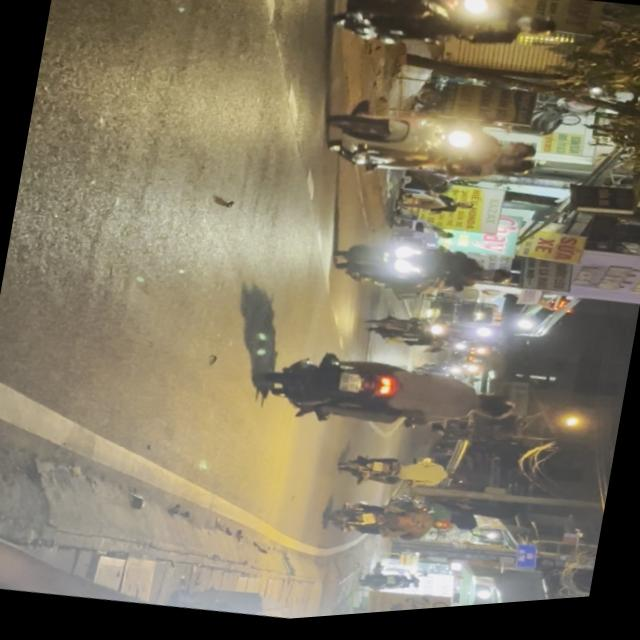helmet: (514, 17, 560, 47), (500, 143, 541, 170)
licenseplate: (252, 332, 524, 463), (317, 95, 546, 209), (318, 0, 567, 83)
motorcyclist: (474, 394, 518, 428)
nohelmet: (340, 373, 364, 399)
